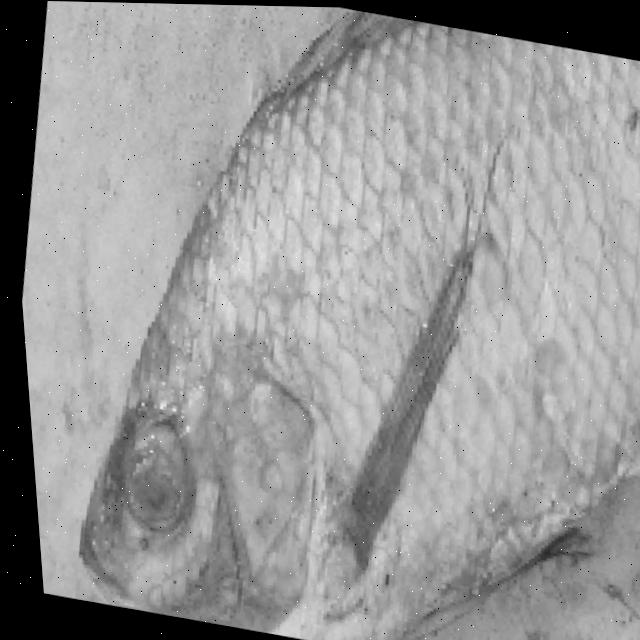Non-Fresh: (106, 2, 640, 640), (71, 400, 248, 589)
